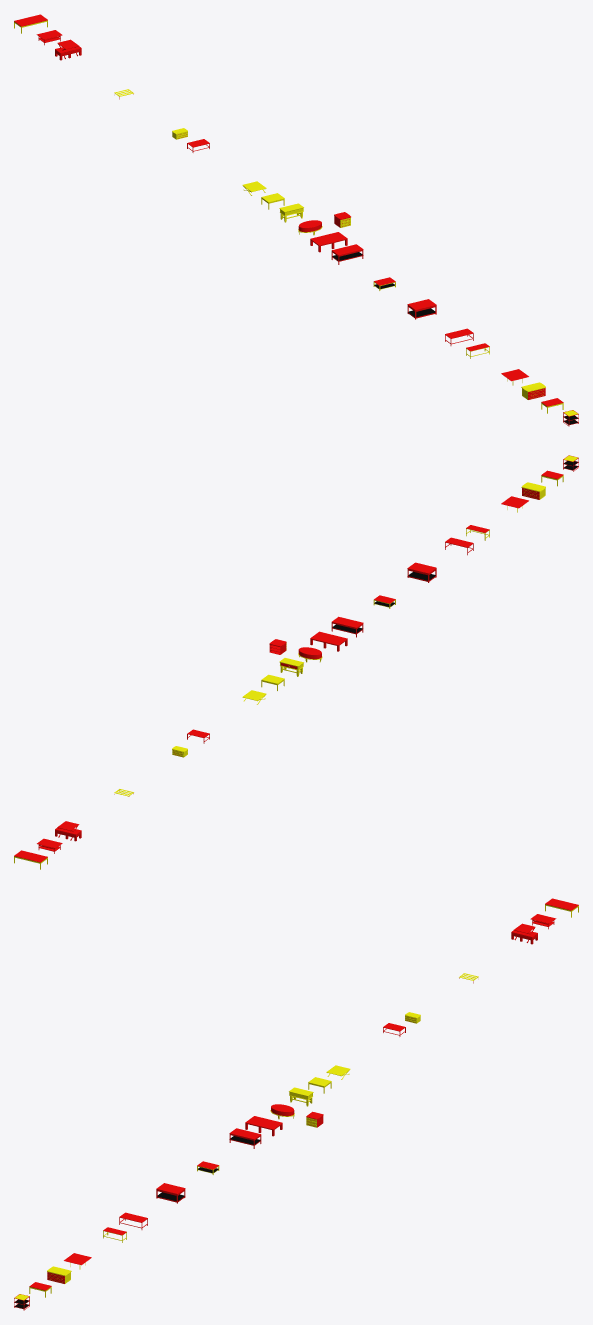
File: coffee_tables_grp.fbx
The picture shows the model from 3 angles, top to bottom: view 1: azimuth 30°, elevation 25°; view 2: azimuth 150°, elevation 25°; view 3: azimuth 330°, elevation 25°; orthographic projection.
Bounding box in the file's own units: 324 × 69.33 × 5871.
